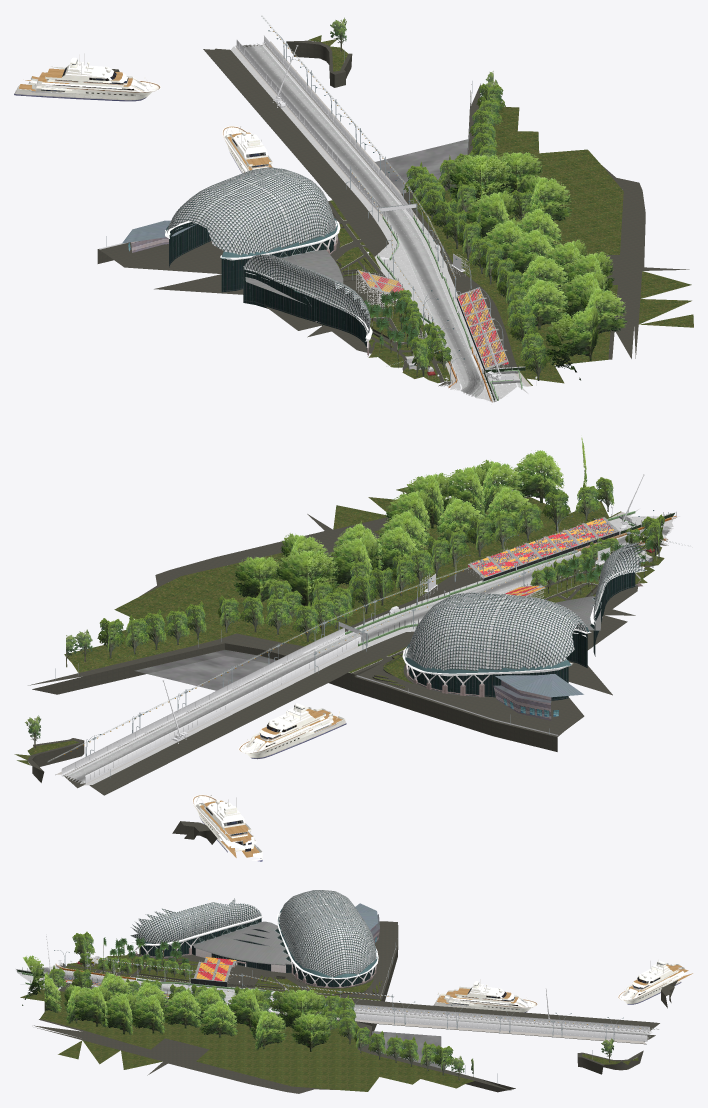
3 views of the same model, one above another, from view 1: azimuth 30°, elevation 25°; view 2: azimuth 150°, elevation 25°; view 3: azimuth 270°, elevation 25° (orthographic). The views are drawn at different scales.
Visible parts, largest first — view 1: m14_t08, m96_t08, m97_t08, m48_t08, m15_t08, m47_t08, m16_t08, m19_t08, m0_t08, m94_t08, m9_t08, m77_t08 (+6 smaller); view 2: m14_t08, m96_t08, m97_t08, m48_t08, m0_t08, m47_t08, m19_t08, m15_t08, m16_t08, m92_t08, m30_t08, m77_t08 (+5 smaller); view 3: m14_t08, m97_t08, m96_t08, m48_t08, m47_t08, m0_t08, m19_t08, m77_t08, m15_t08, m16_t08, m98_t08, m92_t08 (+5 smaller).
Part boxes in pixels (box(x1,y1,x2,y2)): m14_t08: box(330, 17, 627, 380); m96_t08: box(97, 40, 689, 386); m97_t08: box(308, 35, 693, 385); m48_t08: box(167, 167, 370, 334); m15_t08: box(243, 40, 483, 397); m47_t08: box(165, 218, 372, 356); m16_t08: box(231, 42, 528, 402); m19_t08: box(14, 53, 273, 173); m0_t08: box(31, 35, 537, 402); m94_t08: box(243, 45, 477, 392); m9_t08: box(356, 270, 508, 368); m77_t08: box(106, 15, 503, 381); m14_t08: box(25, 437, 665, 748); m96_t08: box(27, 490, 668, 844); m97_t08: box(14, 487, 664, 765); m48_t08: box(406, 542, 648, 671); m0_t08: box(61, 474, 679, 847); m47_t08: box(402, 566, 644, 700); m19_t08: box(192, 703, 346, 861); m15_t08: box(28, 526, 673, 783); m16_t08: box(62, 509, 673, 785); m92_t08: box(134, 650, 276, 690); m30_t08: box(493, 674, 583, 720); m77_t08: box(48, 510, 679, 777); m14_t08: box(22, 931, 614, 1083); m97_t08: box(20, 954, 638, 1091); m96_t08: box(34, 921, 677, 1093); m48_t08: box(130, 890, 376, 977); m47_t08: box(132, 908, 378, 987); m0_t08: box(16, 934, 682, 1041); m19_t08: box(433, 960, 692, 1012); m77_t08: box(54, 924, 658, 1082); m15_t08: box(38, 967, 651, 1059); m16_t08: box(19, 965, 652, 1041); m98_t08: box(28, 965, 650, 1043); m92_t08: box(371, 1031, 441, 1068).
Size of the model in its own units: 299 by 54.22 by 499.
Materials: 29 (28 with a texture image).
